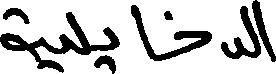ا: (129, 2, 156, 60), (258, 0, 274, 62)
ة: (0, 6, 43, 58)
خ: (160, 11, 211, 57)
د: (220, 29, 243, 59)
ل: (241, 0, 258, 58), (69, 9, 89, 55)
ي: (94, 24, 119, 72), (41, 34, 71, 72)
